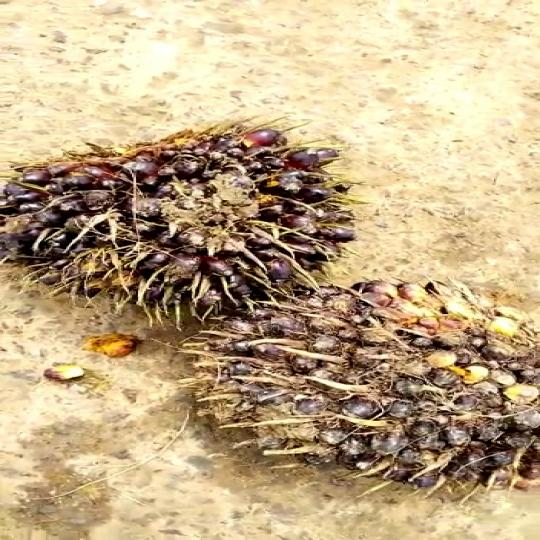mentah: (170, 278, 540, 485), (0, 130, 340, 320)
